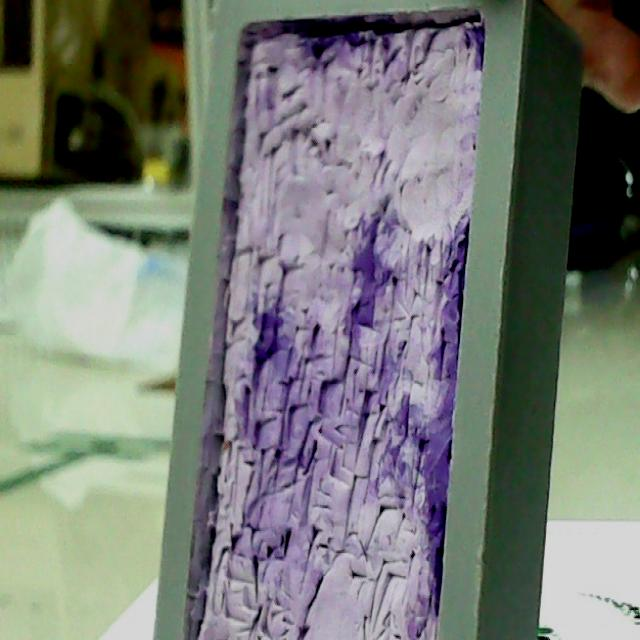block: (150, 0, 591, 640)
